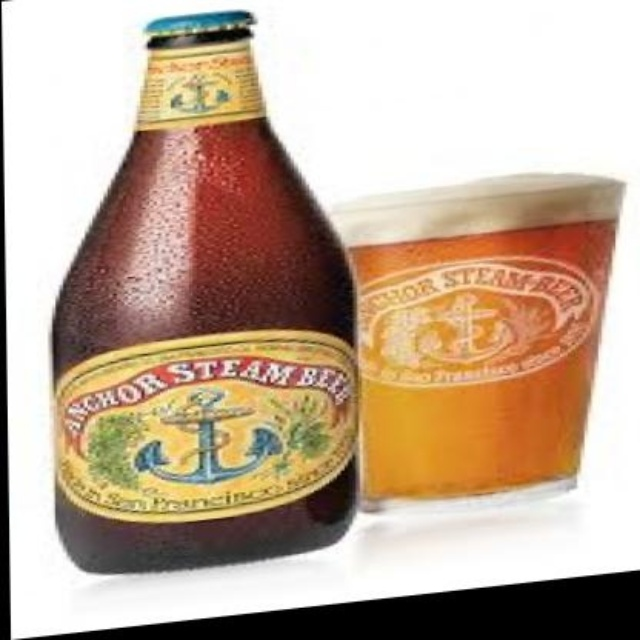trash: (54, 11, 355, 571), (334, 174, 622, 498)
